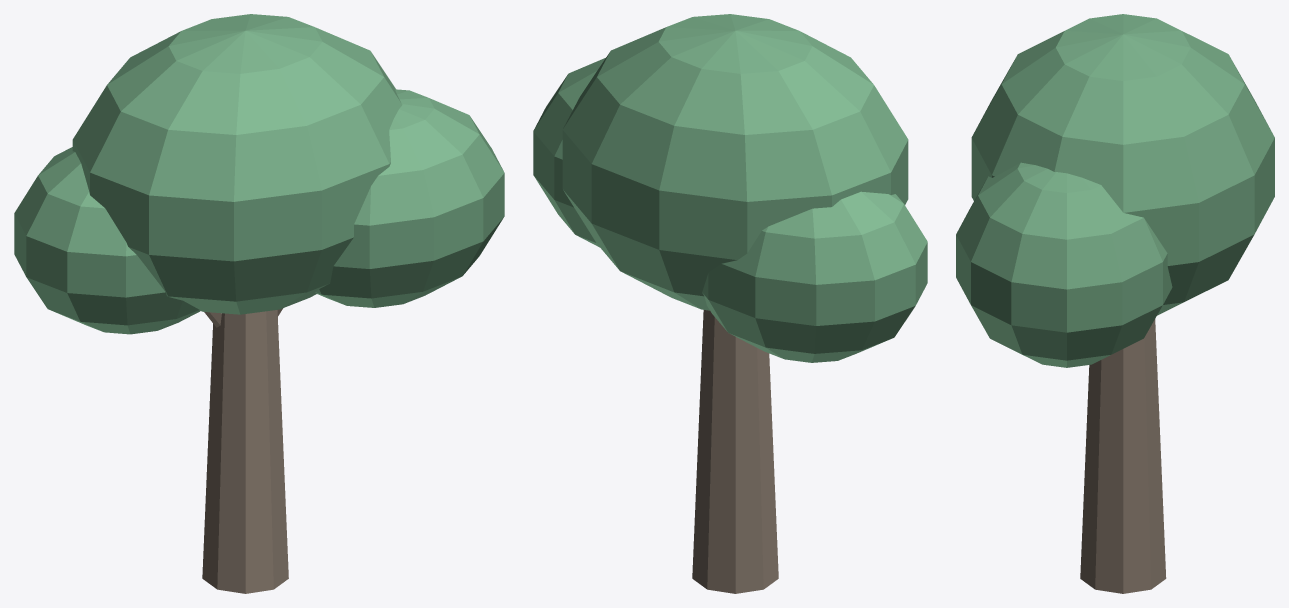
File: arbol_selva.glb
3 renders of one model, left to right at view 1: azimuth 30°, elevation 25°; view 2: azimuth 150°, elevation 25°; view 3: azimuth 270°, elevation 25°, orthographic.
Visible parts, largest first — view 1: arbol_selva; view 2: arbol_selva; view 3: arbol_selva.
Boxes of the visible parts, bbox=[...] form: arbol_selva: bbox=[14, 14, 504, 593]; arbol_selva: bbox=[533, 14, 927, 593]; arbol_selva: bbox=[956, 14, 1274, 593].
Bounding box in the file's own units: 6.81 × 8.48 × 4.53.
